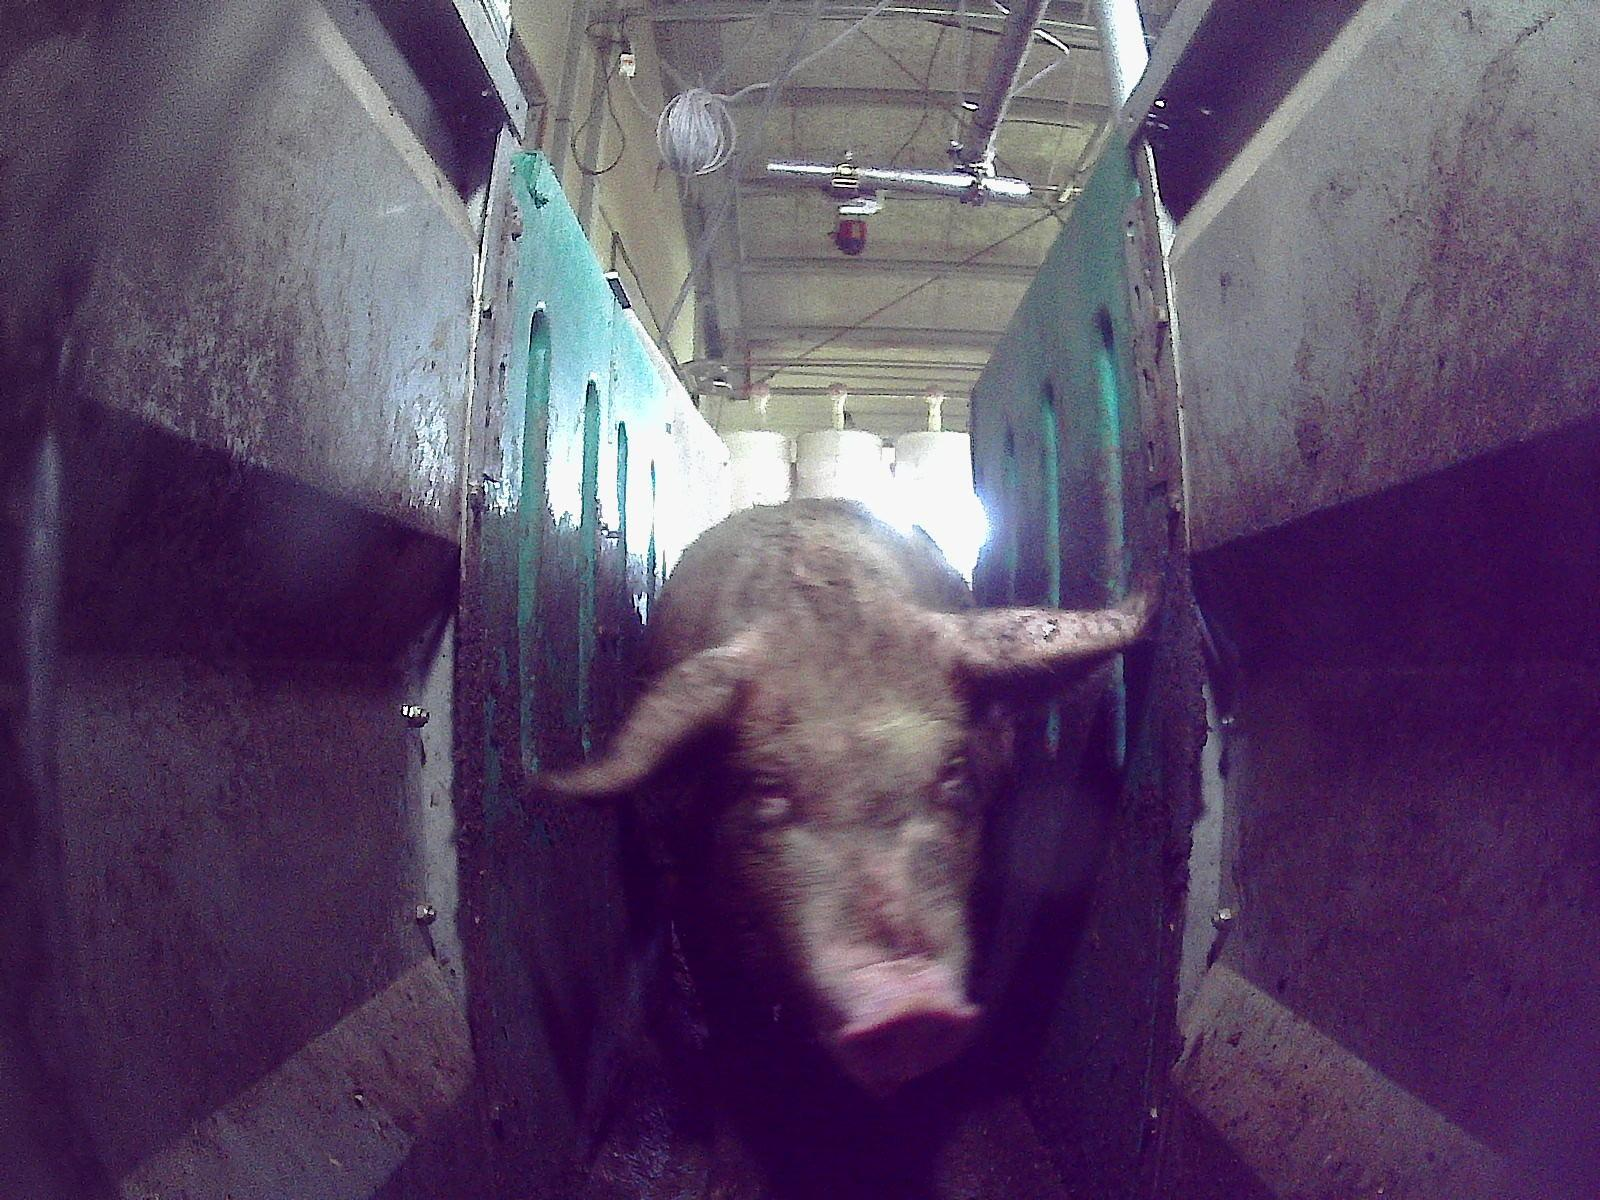Face: (678, 591, 994, 1095)
